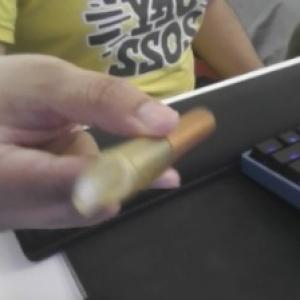Golden-E-Ciggirate: (70, 104, 217, 220)
